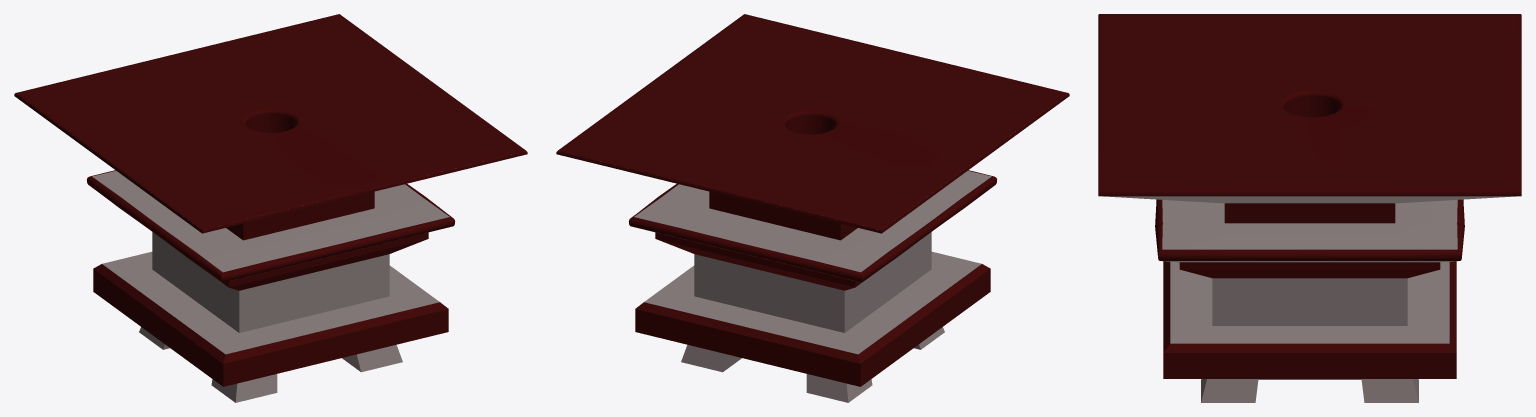
File: SM_IslandHole.fbx
3 renders of one model, left to right at view 1: azimuth 30°, elevation 25°; view 2: azimuth 150°, elevation 25°; view 3: azimuth 270°, elevation 25°, orthographic. The views are drawn at different scales.
Visible parts, largest first — view 1: SM_IslandHole; view 2: SM_IslandHole; view 3: SM_IslandHole.
Part boxes in pixels (box(x1,y1,x2,y2)): SM_IslandHole: box(14, 14, 527, 402); SM_IslandHole: box(556, 14, 1069, 402); SM_IslandHole: box(1098, 14, 1521, 402).
Bounding box in the file's own units: 366 × 243 × 366.
